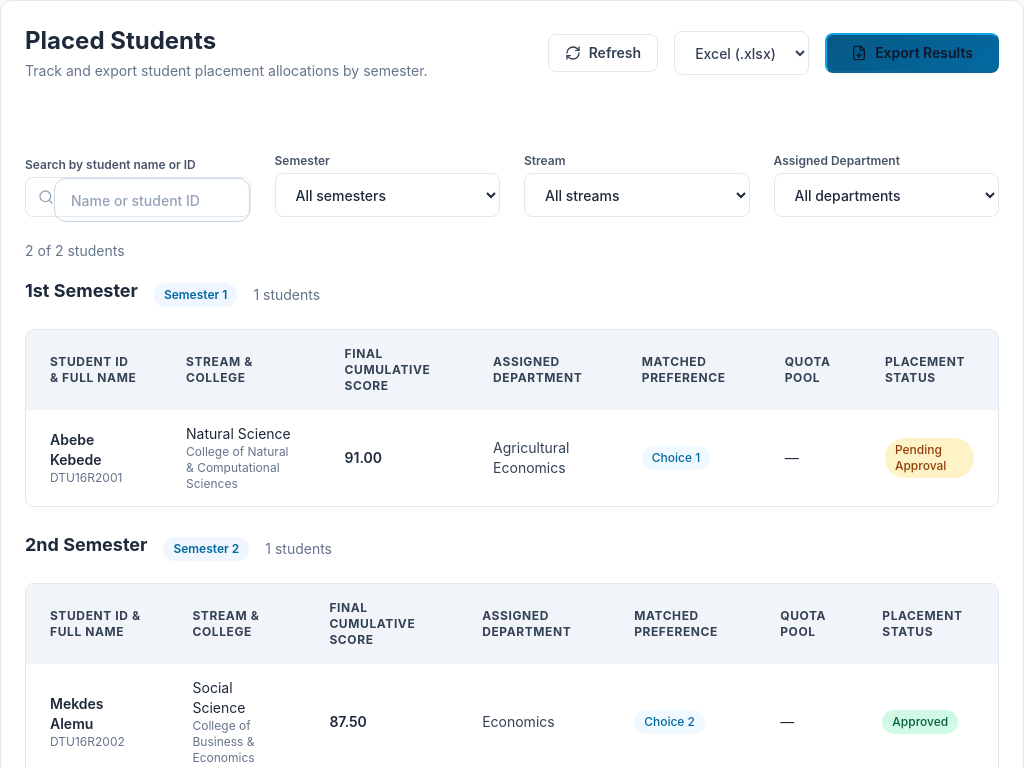
Scenario: PlacedStudents › filters semester batches without merging the two tables
The width and height of the screenshot is (1024, 768).
Expected: the text "Abebe Kebede" is shown, x1=50 y1=431 x2=102 y2=468
Select "2nd Semester" in the dropdown labelled "Semester" at x=387, y=195, box x1=274 y1=173 x2=500 y2=217
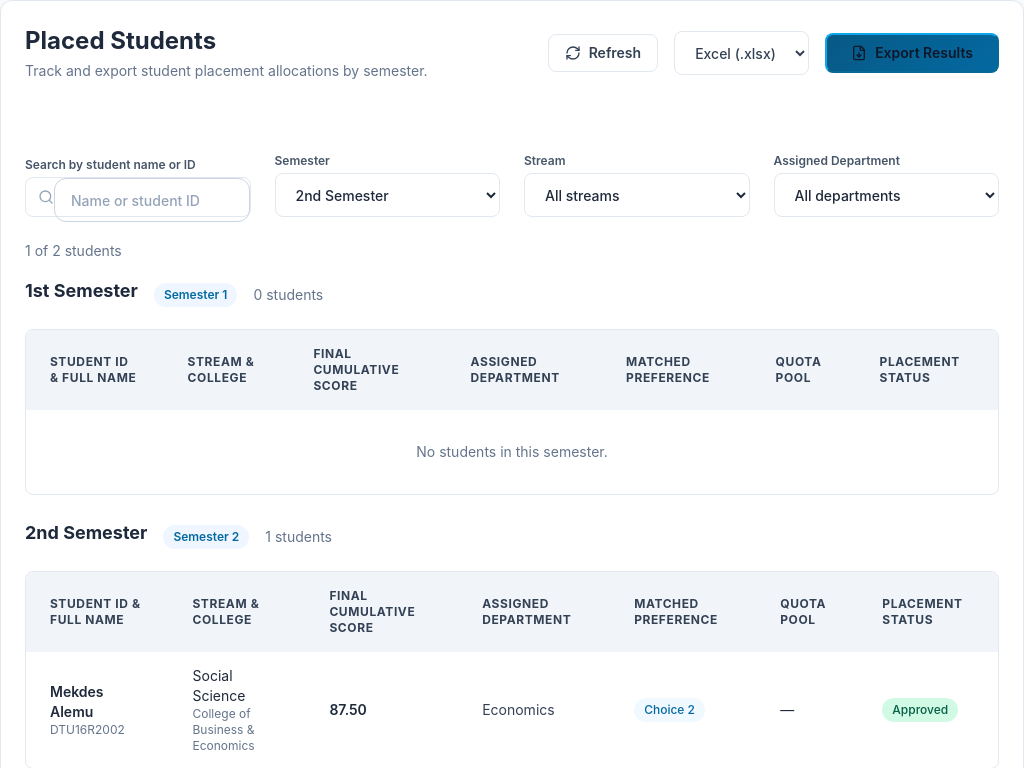
Expected: the text "Mekdes Alemu" is shown, x1=50 y1=683 x2=104 y2=720
Now the message reads "1 of 2 students", box x1=25 y1=242 x2=122 y2=259
Now the text "Abebe Kebede" is gone
